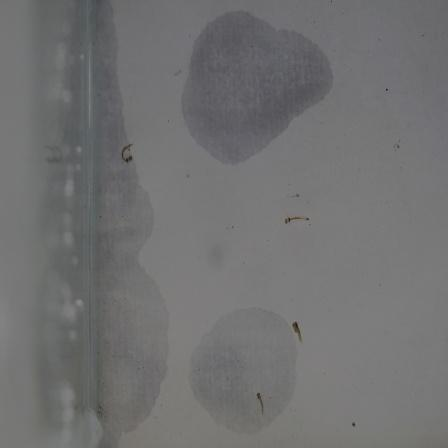Jentik-Nyamuk: (281, 208, 311, 231), (288, 316, 308, 347), (119, 138, 137, 169), (253, 388, 269, 422)
